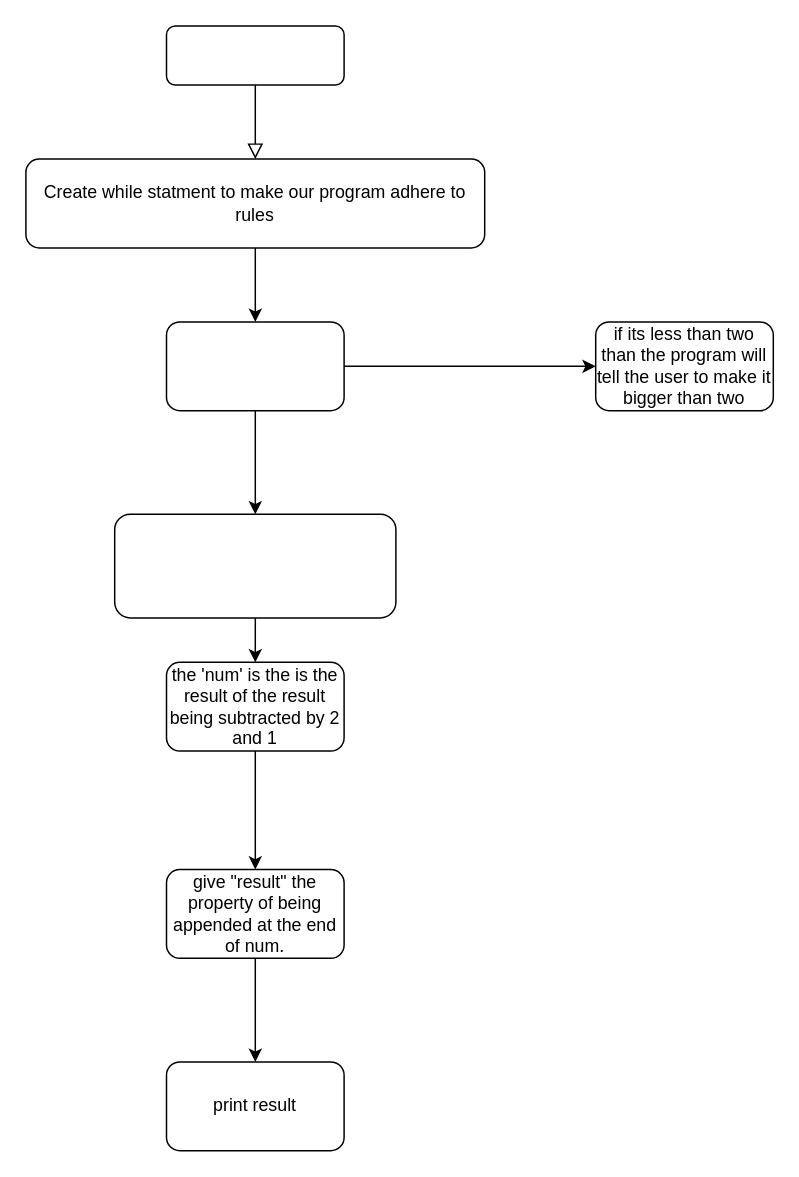
The diagram is 799 pixels wide and 1177 high, and some of its shapes have lost their labels. The centre of each missing label's shape, as x and y in pixels:
"define our result as [a1,a2] to have our numbers formatted like that" goes at (x=254, y=565).
"Define our terms" goes at (x=254, y=54).
"If number of sequences>2" goes at (x=254, y=365).
